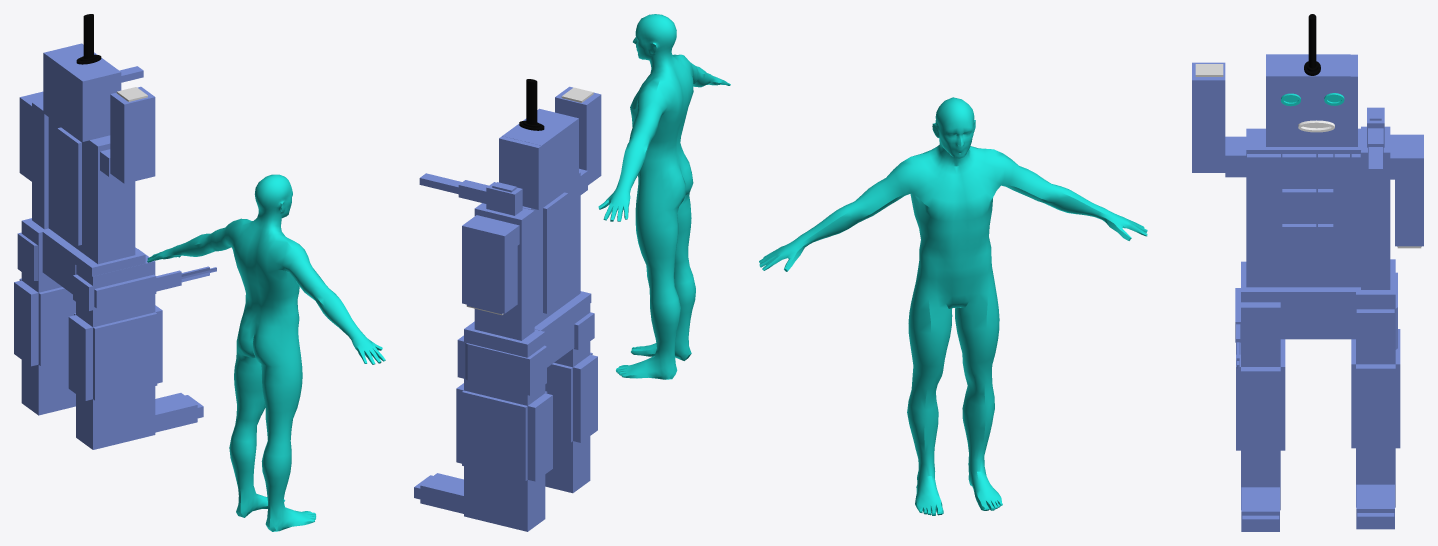
Rendered from suamaev2glb.glb.
3 renders of one model, left to right at view 1: azimuth 30°, elevation 25°; view 2: azimuth 150°, elevation 25°; view 3: azimuth 270°, elevation 25°, orthographic. The views are drawn at different scales.
Visible parts, largest first — view 1: Cube.001, Male_Base, Cube, Cylinder.001; view 2: Cube.001, Male_Base, Cube, Cylinder.001; view 3: Cube.001, Male_Base, Cube.
Boxes of the visible parts, x1=… form: Cube.001: x1=14, y1=43, x2=155, y2=415; Male_Base: x1=147, y1=174, x2=385, y2=531; Cube: x1=68, y1=249, x2=216, y2=449; Cylinder.001: x1=76, y1=14, x2=101, y2=64; Cube.001: x1=414, y1=86, x2=601, y2=531; Male_Base: x1=598, y1=14, x2=730, y2=379; Cube: x1=545, y1=304, x2=597, y2=493; Cylinder.001: x1=519, y1=79, x2=544, y2=130; Cube.001: x1=1192, y1=54, x2=1423, y2=529; Male_Base: x1=759, y1=97, x2=1147, y2=515; Cube: x1=1235, y1=288, x2=1285, y2=531.
Bounding box in the file's own units: 0.7418 × 2.13 × 2.71.
